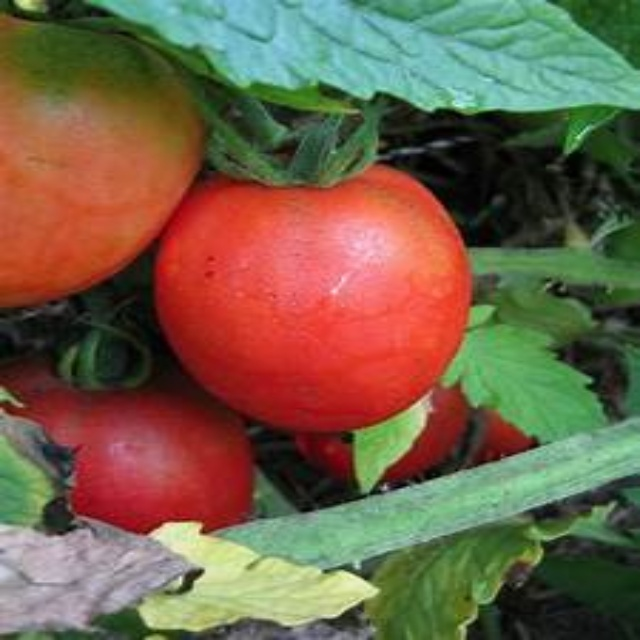tomato: (163, 141, 489, 435), (6, 11, 204, 335), (38, 373, 260, 550)
